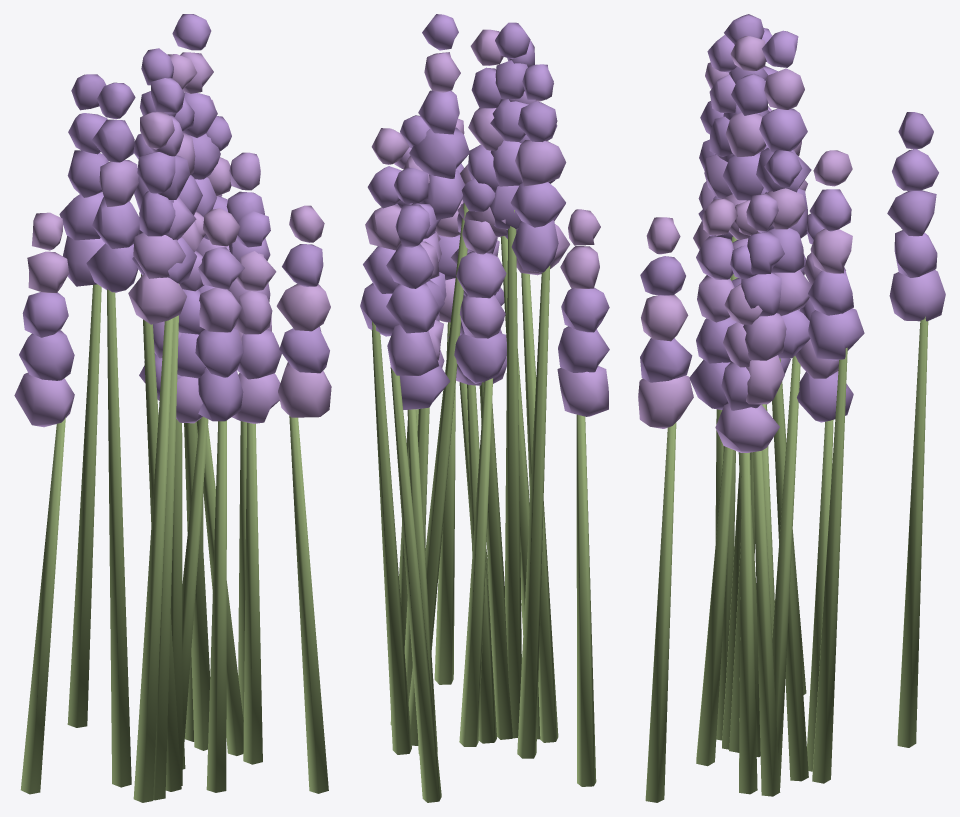
Rendered from lavender_2.glb.
3 renders of one model, left to right at view 1: azimuth 30°, elevation 25°; view 2: azimuth 150°, elevation 25°; view 3: azimuth 270°, elevation 25°, orthographic. The views are drawn at different scales.
Visible parts, largest first — view 1: lavender; view 2: lavender; view 3: lavender.
Boxes of the visible parts, x1,y1,x2,y2 form: lavender: [14, 14, 331, 802]; lavender: [360, 14, 609, 802]; lavender: [638, 14, 945, 802].
Size of the model in its own units: 0.2194 by 0.6331 by 0.2393.
